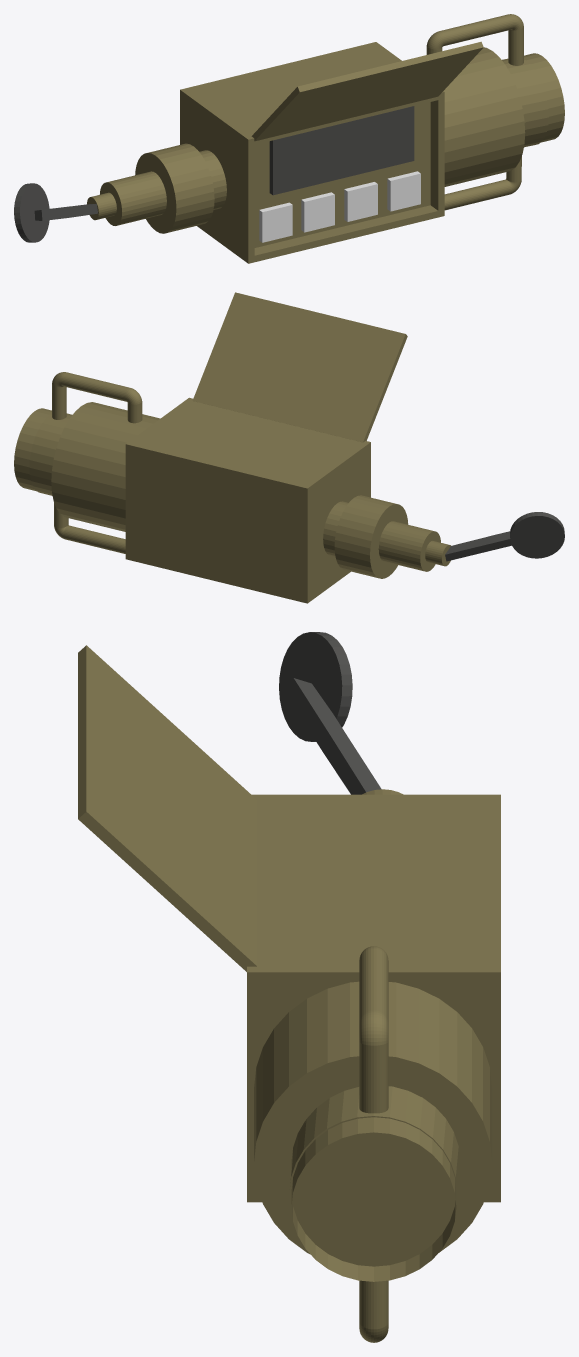
Rendered from level_gauge.glb.
3 views of the same model, one above another, from view 1: azimuth 30°, elevation 25°; view 2: azimuth 150°, elevation 25°; view 3: azimuth 270°, elevation 25° (orthographic). The views are drawn at different scales.
Visible parts, largest first — view 1: base, cover, screen, flap, button_return, button_input_output, button_mode, button_level; view 2: base, cover, flap; view 3: base, cover, flap.
Boxes of the visible parts, x1,y1,x2,y2 form: base: (87,14,564,263); cover: (251,41,483,141); screen: (269,106,414,195); flap: (14,183,98,242); button_return: (387,171,420,211); button_input_output: (301,192,334,232); button_mode: (259,202,292,242); button_level: (344,182,377,221); base: (14,372,450,603); cover: (192,292,407,442); flap: (445,512,564,561); base: (247,789,500,1342); cover: (78,645,256,971); flap: (279,632,381,794).
Bounding box in the file's own units: 4.08 × 1.66 × 1.46.
